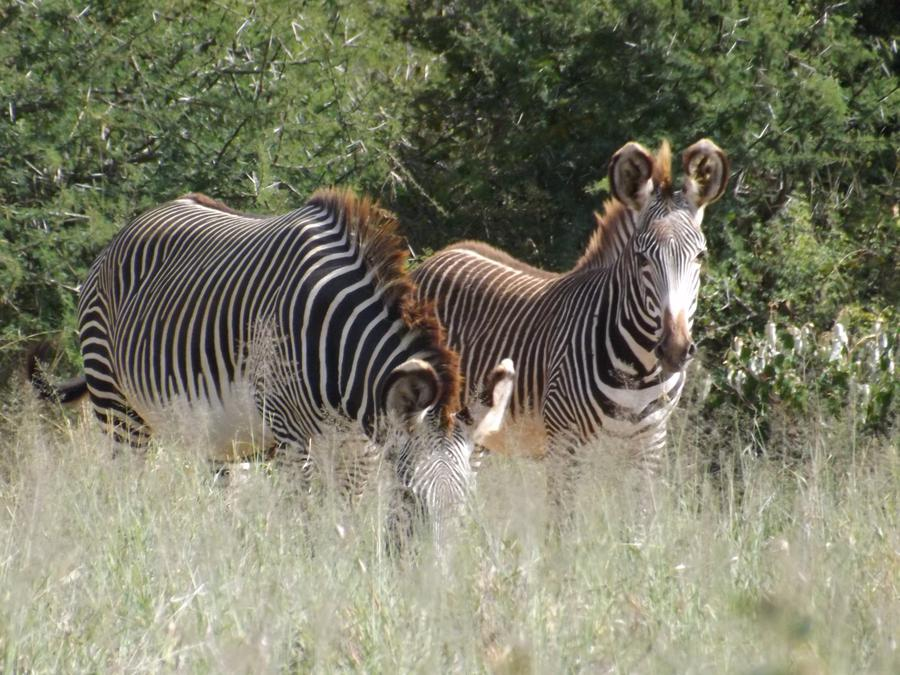zebra_grevys: (85, 202, 322, 431)
